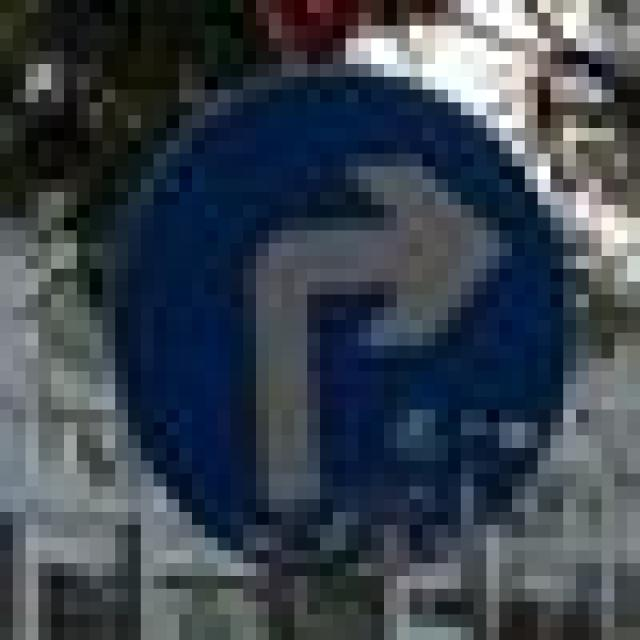railway_crossing: (90, 51, 563, 563)
